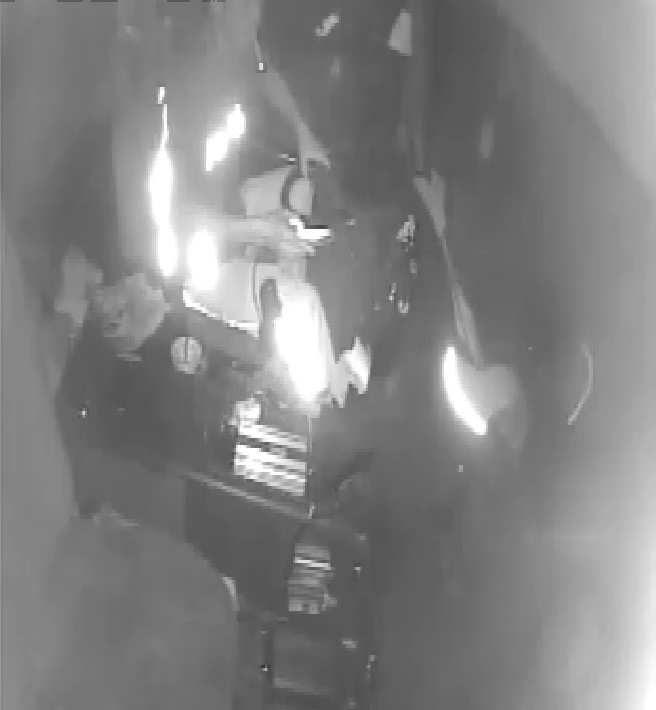cellphone: (278, 206, 334, 253)
